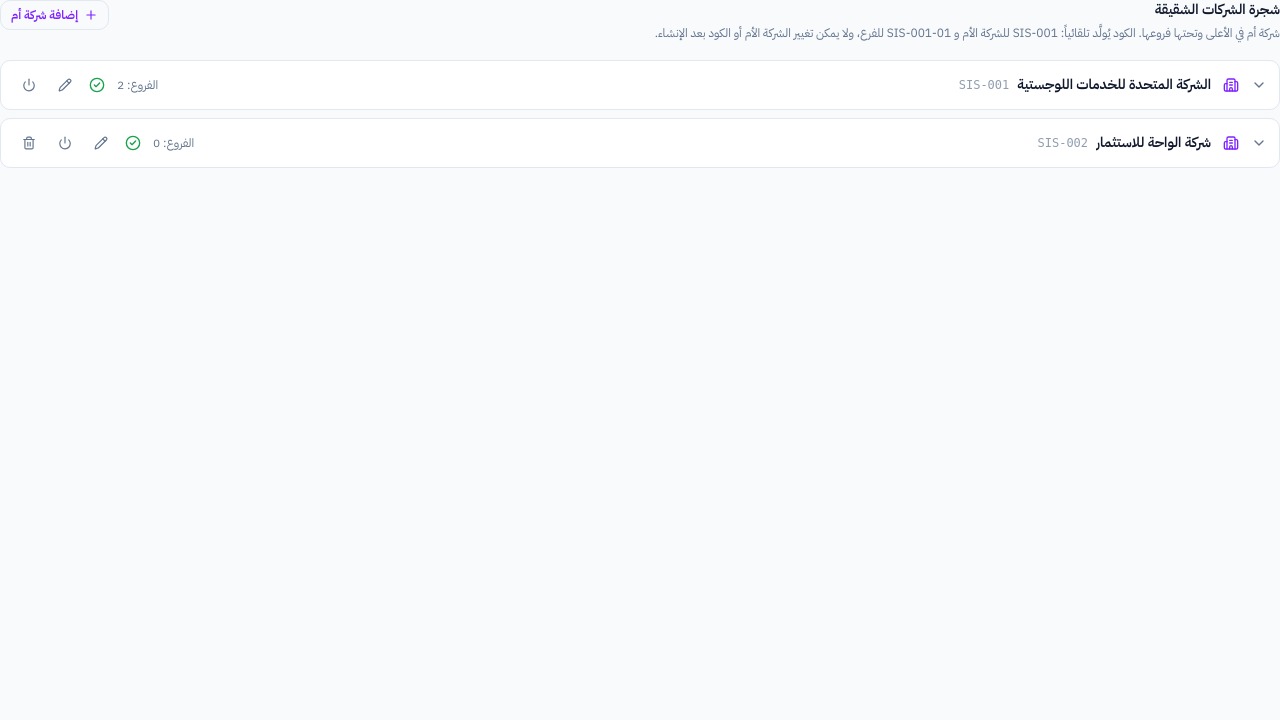
Sister companies — delete › translates a refused delete (23503) into a branches message
Click the button named "حذف شركة الواحة للاستثمار": (29, 142) 13,126 -> 45,158
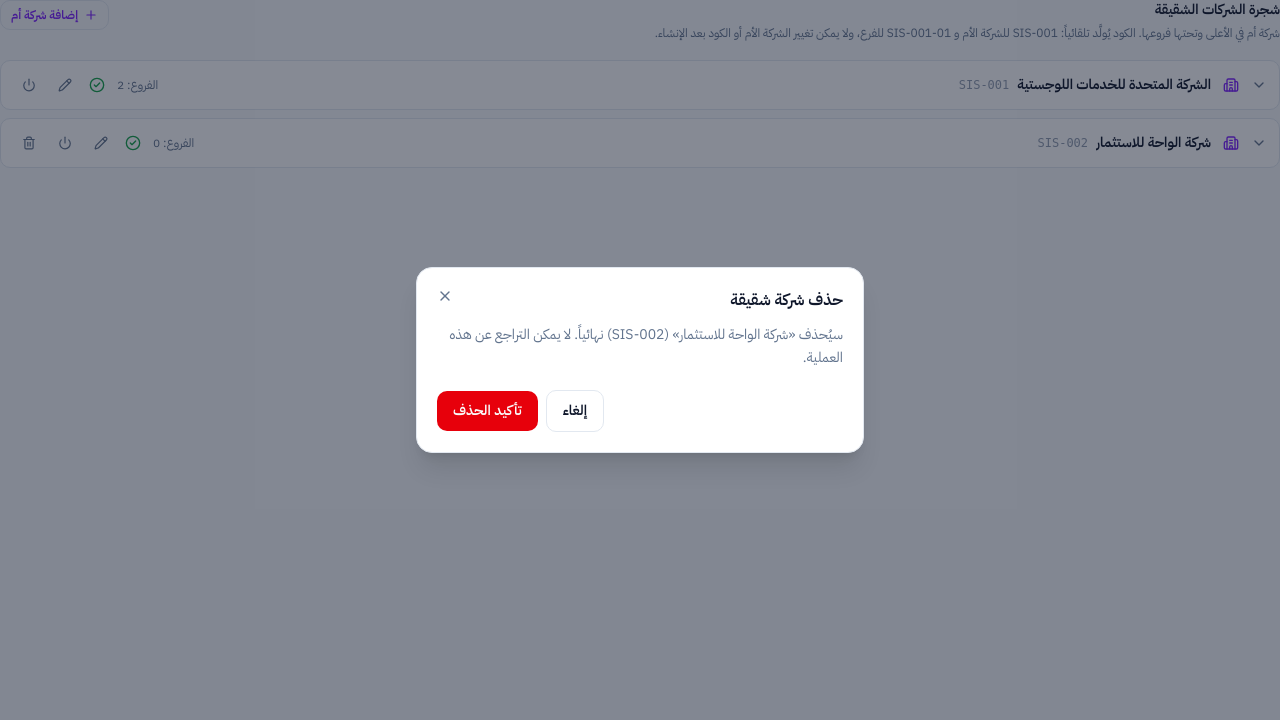
Click the button "تأكيد الحذف": (487, 411) 437,391 -> 538,431
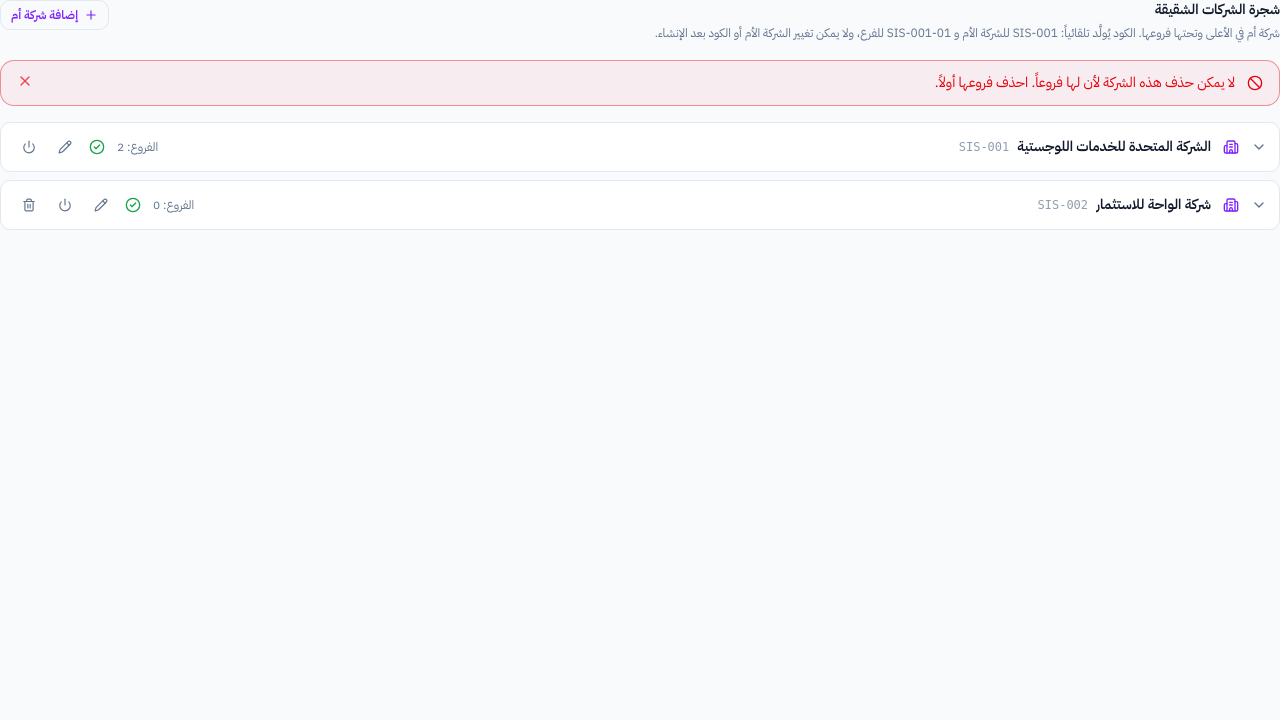
Expected: the dialog is gone
Expected: the message shows "لا يمكن حذف هذه الشركة لأن لها فروعاً", 935,72 -> 1235,92
